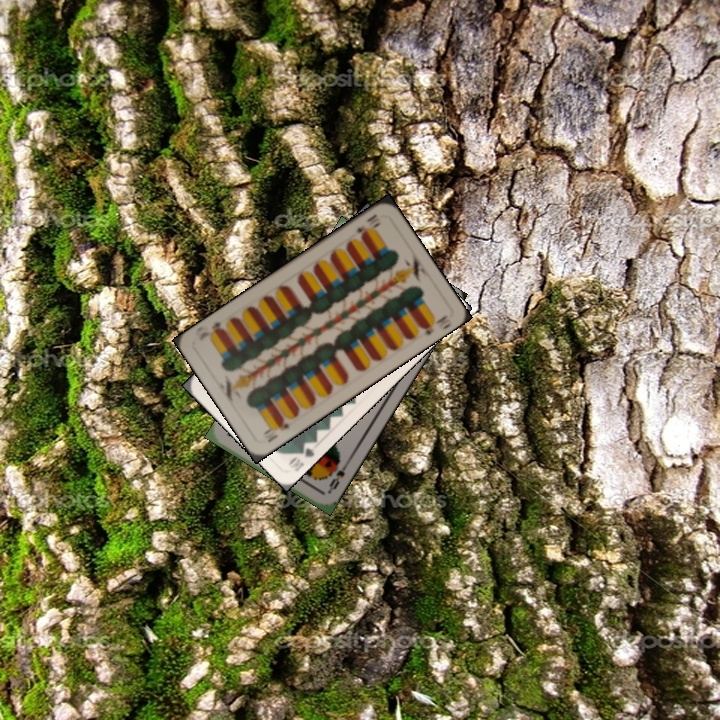E10: (259, 415, 292, 445), (352, 210, 383, 240)
G10: (285, 440, 317, 474)
SO: (324, 459, 351, 496)
